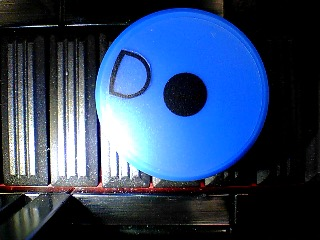BOHOMIPO1: (94, 7, 270, 182)
